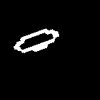chain: (14, 29, 58, 52)
